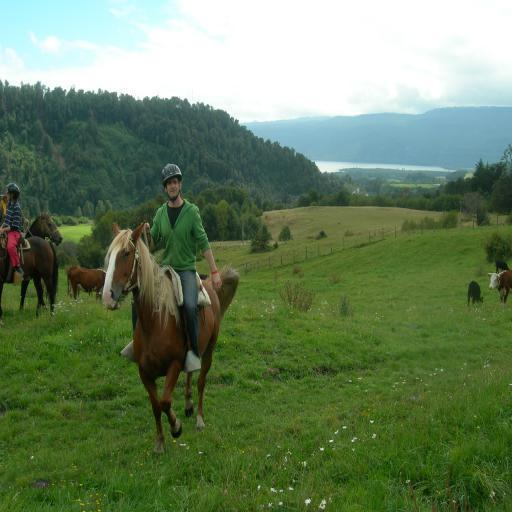horse: (101, 222, 241, 456), (0, 234, 59, 326), (22, 210, 64, 311)
